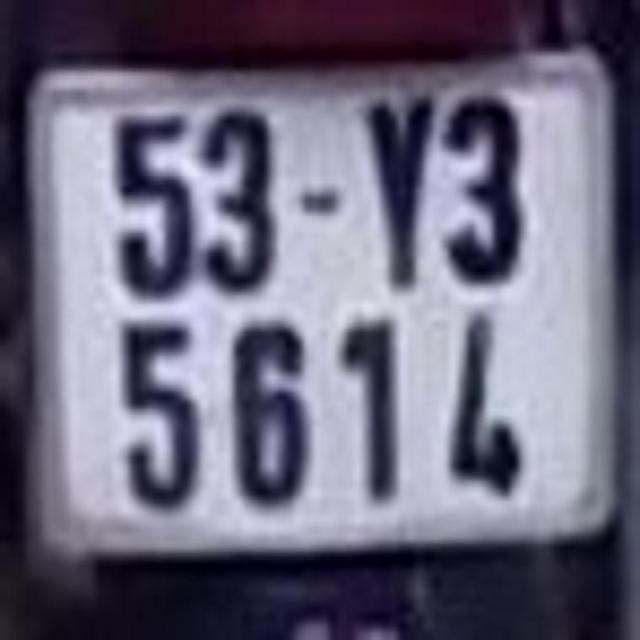1: (334, 309, 418, 504)
3: (442, 82, 530, 292), (198, 103, 285, 288)
4: (444, 311, 533, 507)
5: (114, 310, 210, 510), (107, 100, 197, 298)
6: (225, 300, 318, 511)
Y: (360, 84, 434, 294)
